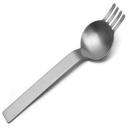fork: (3, 5, 128, 122)
